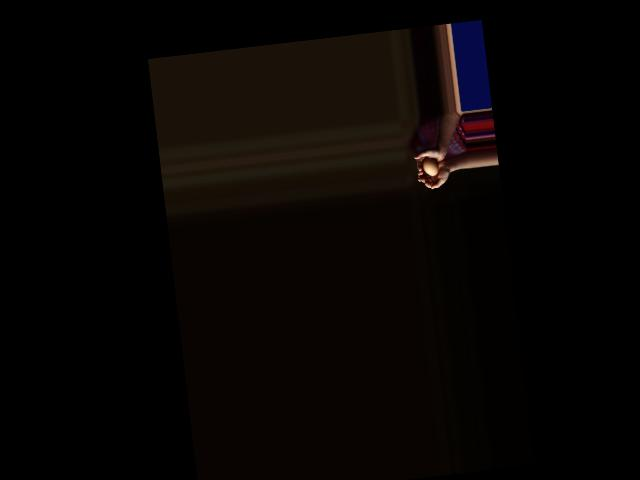egg: (421, 156, 438, 176)
